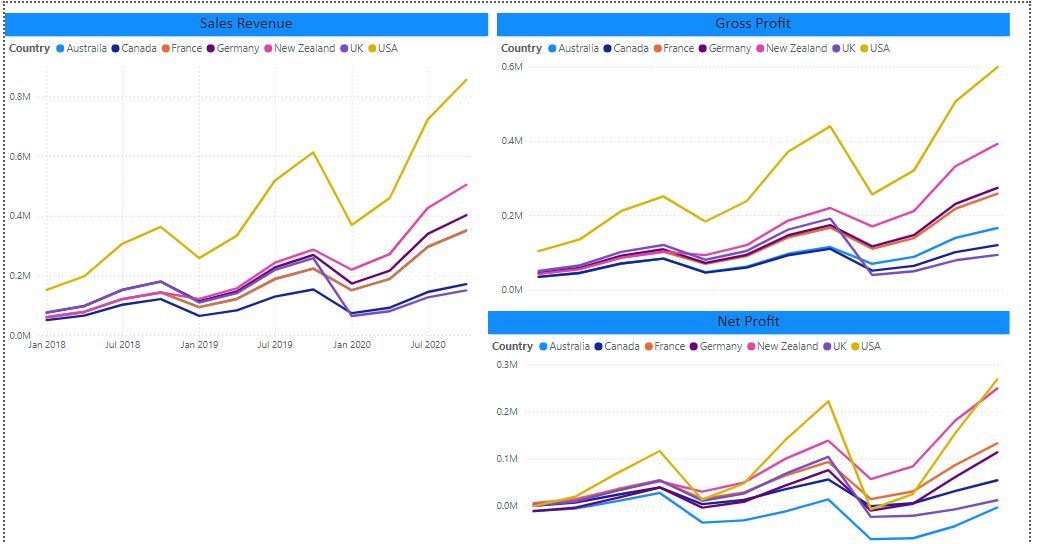

The page's visual inventory and layout, read from the dashboard file:
{"tool":"powerbi","page":{"name":"Page 2","canvas":[1280,720],"ordinal":1},"visuals":[{"type":"lineChart","title":"Gross Profit","fields":{"Y":["Sum(tbl_GL.Amount)"],"Category":["tbl_Calendar.Date.Variation.Date Hierarchy.Year","tbl_Calendar.Date.Variation.Date Hierarchy.Quarter"],"Series":["tbl_territory.Country"]},"box":[0,0,639.5,360.5],"z":0},{"type":"lineChart","title":"Sales Revenue","fields":{"Category":["tbl_Calendar.Date.Variation.Date Hierarchy.Year","tbl_Calendar.Date.Variation.Date Hierarchy.Quarter"],"Series":["tbl_territory.Country"],"Y":["table.SalesRevenue"]},"box":[639.5,0,640.7,379.1],"z":1000},{"type":"lineChart","title":"Net profit","fields":{"Category":["tbl_Calendar.Date.Variation.Date Hierarchy.Year","tbl_Calendar.Date.Variation.Date Hierarchy.Quarter"],"Series":["tbl_territory.Country"],"Y":["values.net profit"]},"box":[0,360.5,639.5,359.3],"z":2000}]}

Visuals, with their boxes on the page's 1280x720 design canvas (x1, y1, x2, y2). These are canvas units, not pixel positions in the 1039x544 screenshot, which may show the page scaled, cropped or inside an application window:
"Gross Profit" lineChart: detection(0, 0, 640, 360)
"Sales Revenue" lineChart: detection(640, 0, 1280, 379)
"Net profit" lineChart: detection(0, 360, 640, 720)
